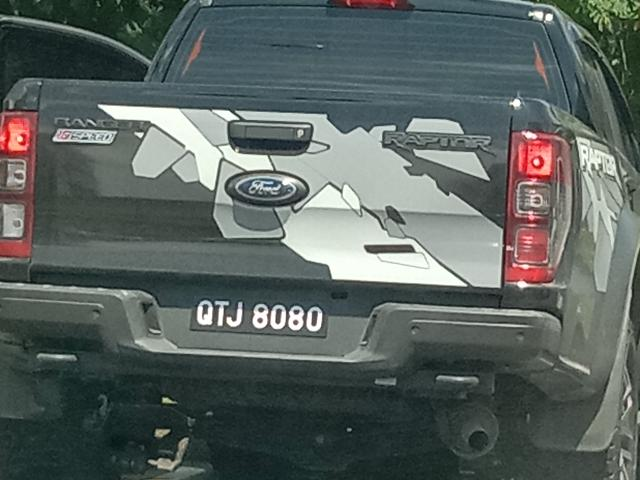License_Plate: (189, 297, 329, 342)
car: (1, 1, 640, 480)
